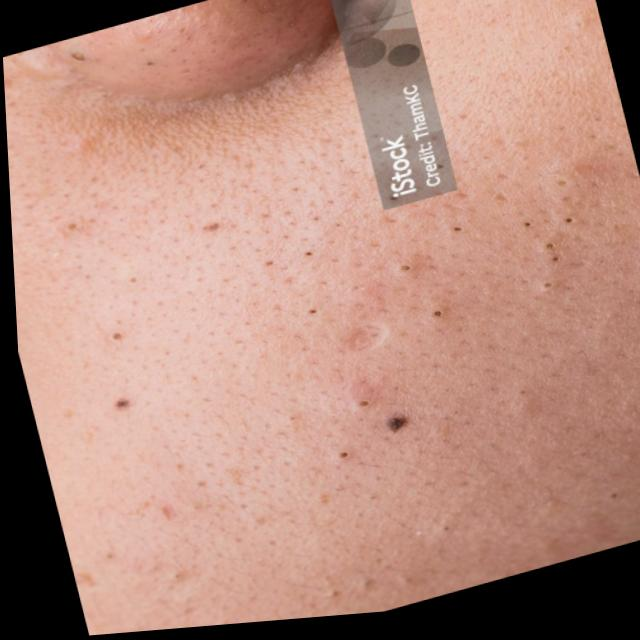blackhead: (82, 184, 638, 610)
